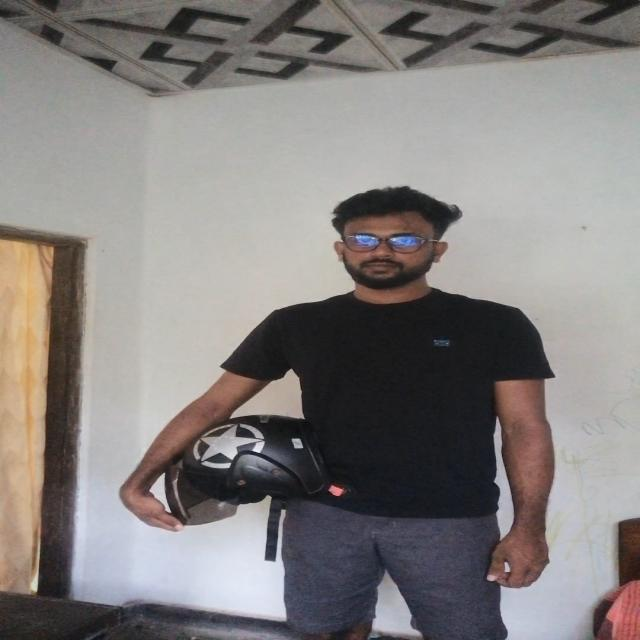Person: (123, 181, 556, 638)
